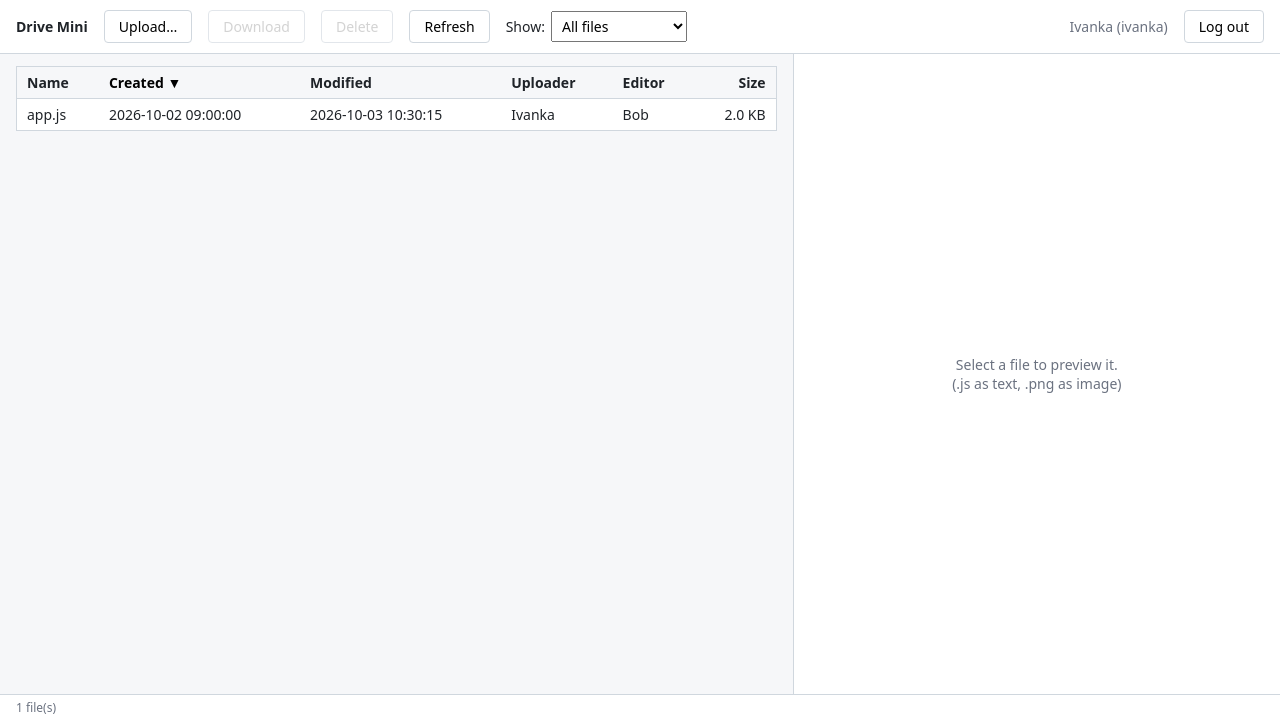
Scenario: selecting a .js row previews it on the right
Click the text "app.js": point(58, 114) [16,98,99,130]
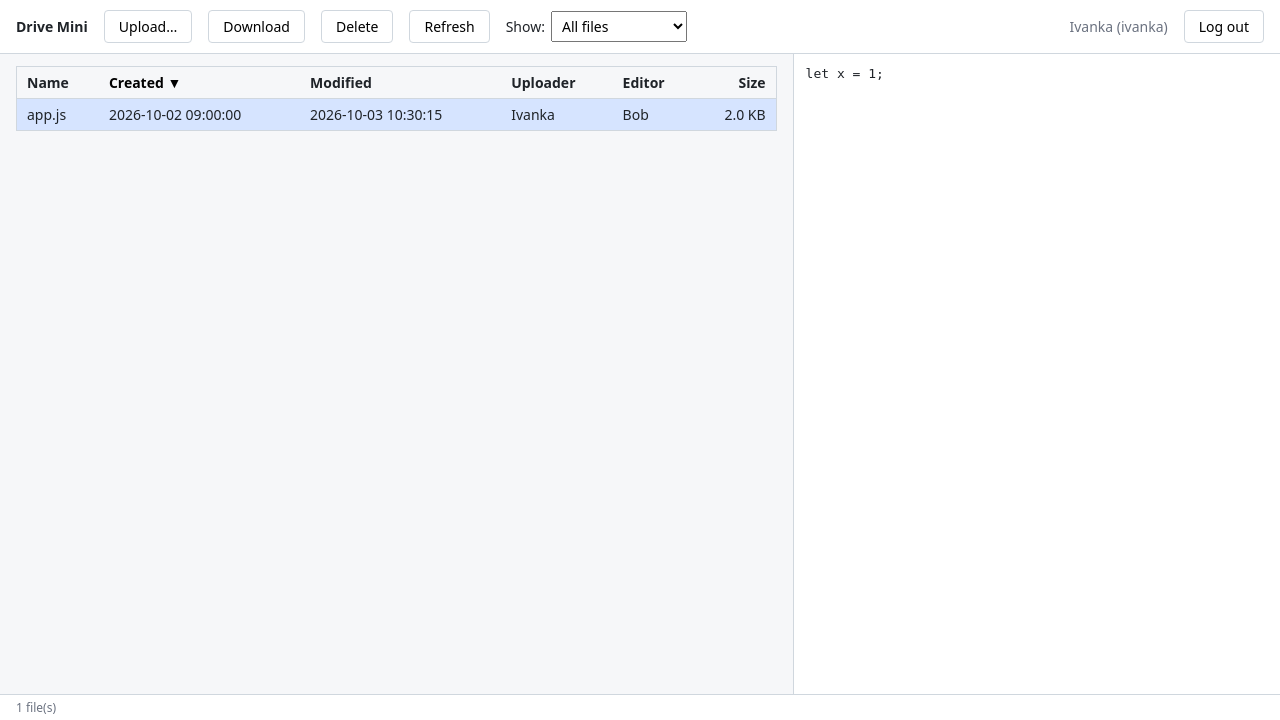
Result: the text "let x = 1;" is shown at [806,66,884,81]
